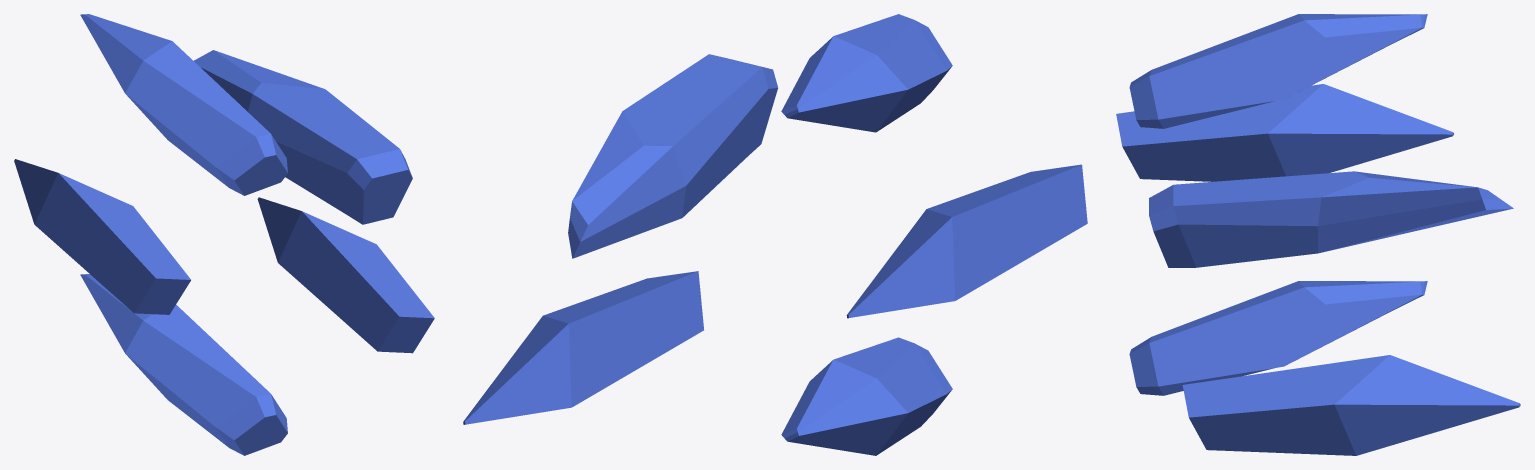
Rendered from EFFMON-1nun.fbx.
3 views of the same model, side by side, from view 1: azimuth 30°, elevation 25°; view 2: azimuth 150°, elevation 25°; view 3: azimuth 270°, elevation 25° (orthographic). The views are drawn at different scales.
Visible parts, largest first — view 1: Cube.005; view 2: Cube.005; view 3: Cube.005.
Part boxes in pixels (x1,y1,x2,y2): Cube.005: (14, 14, 434, 455); Cube.005: (463, 14, 1087, 455); Cube.005: (1116, 14, 1520, 455).
Size of the model in its own units: 688 by 693 by 691.
